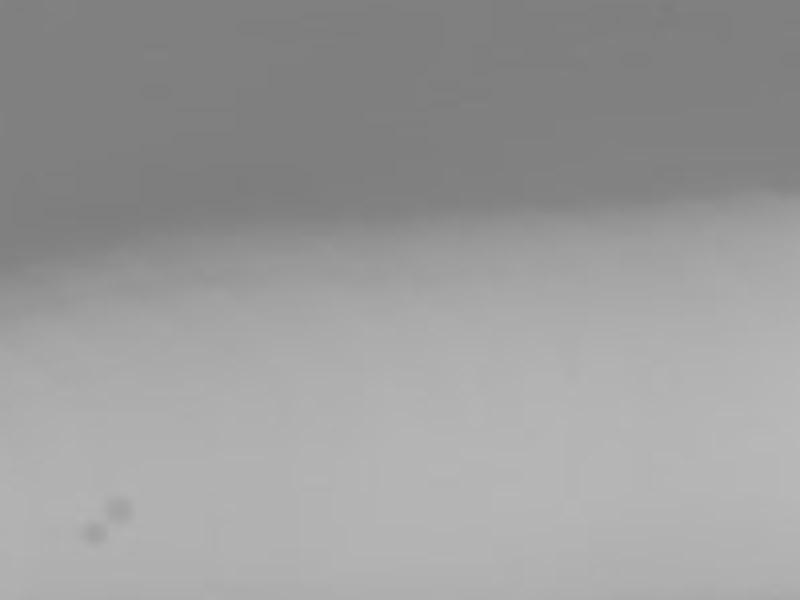defect: (74, 518, 111, 548), (105, 495, 137, 525)
